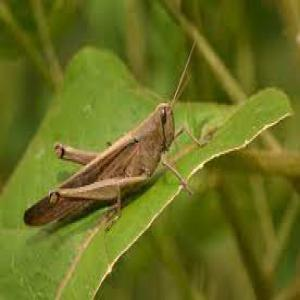locust: (20, 80, 194, 237)
